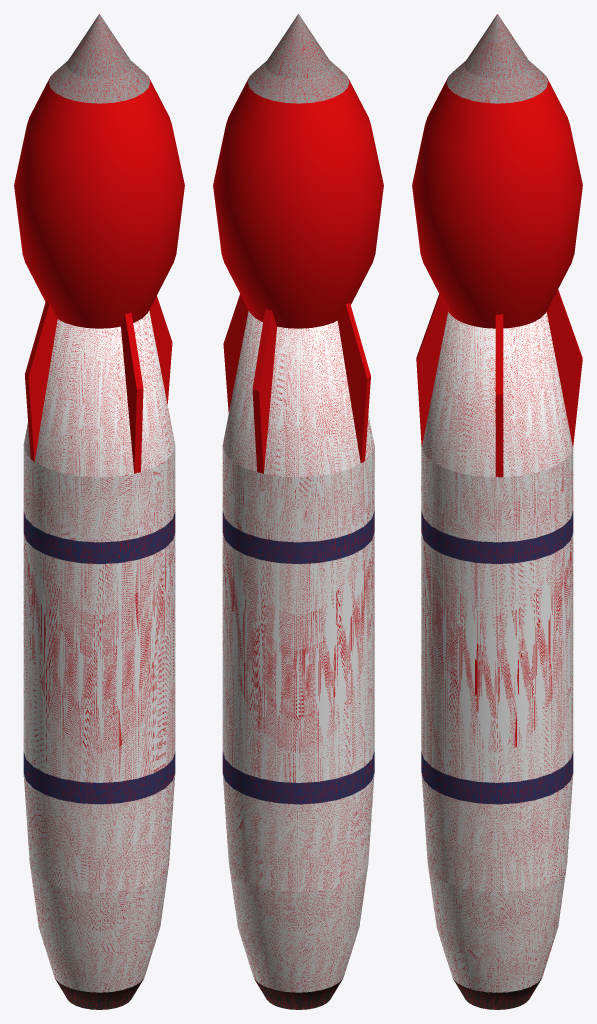
File: rocket.fbx
3 renders of one model, left to right at view 1: azimuth 30°, elevation 25°; view 2: azimuth 150°, elevation 25°; view 3: azimuth 270°, elevation 25°, orthographic.
Visible parts, largest first — view 1: rocket, ID26, ID20, ID72, ID32, ID52, ID60, ID110, ID104, ID78; view 2: rocket, ID26, ID20, ID72, ID104, ID32, ID52, ID60, ID110, ID78; view 3: rocket, ID26, ID20, ID72, ID32, ID110, ID52, ID60, ID104, ID78.
Boxes of the visible parts, left/top/right/bottom form: rocket: left=23, top=533, right=175, bottom=782; ID26: left=14, top=78, right=184, bottom=328; ID20: left=23, top=310, right=175, bottom=542; ID72: left=23, top=773, right=175, bottom=992; ID32: left=48, top=14, right=150, bottom=103; ID52: left=23, top=511, right=175, bottom=564; ID60: left=23, top=752, right=175, bottom=804; ID110: left=121, top=296, right=172, bottom=473; ID104: left=24, top=300, right=57, bottom=461; ID78: left=55, top=979, right=143, bottom=1009; rocket: left=222, top=532, right=374, bottom=782; ID26: left=213, top=78, right=383, bottom=328; ID20: left=222, top=310, right=374, bottom=542; ID72: left=222, top=773, right=374, bottom=992; ID104: left=252, top=302, right=370, bottom=473; ID32: left=247, top=14, right=349, bottom=103; ID52: left=222, top=511, right=374, bottom=563; ID60: left=222, top=751, right=374, bottom=804; ID110: left=223, top=294, right=248, bottom=412; ID78: left=254, top=979, right=342, bottom=1009; rocket: left=421, top=532, right=573, bottom=782; ID26: left=412, top=78, right=582, bottom=328; ID20: left=421, top=311, right=573, bottom=542; ID72: left=421, top=772, right=573, bottom=992; ID32: left=446, top=14, right=548, bottom=103; ID110: left=416, top=294, right=503, bottom=477; ID52: left=421, top=510, right=573, bottom=563; ID60: left=421, top=751, right=573, bottom=804; ID104: left=546, top=289, right=582, bottom=446; ID78: left=453, top=979, right=541, bottom=1009.
Size of the model in its own units: 177 by 177 by 1123.
